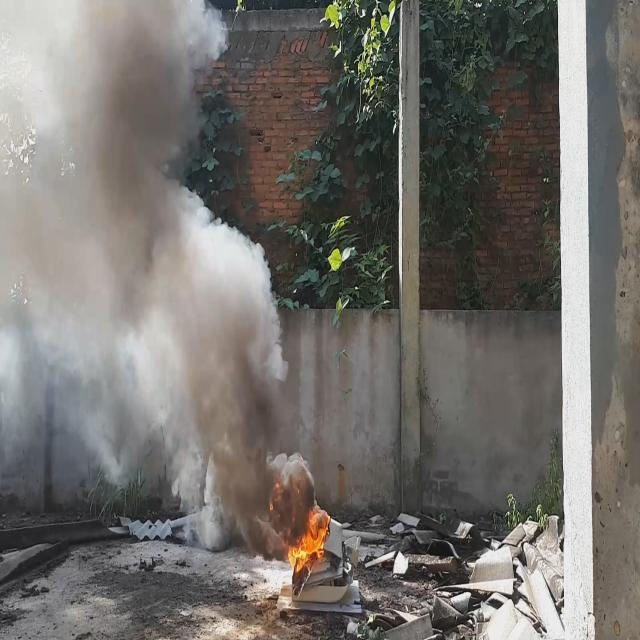Fire: (285, 504, 331, 576)
Smoke: (0, 0, 317, 564)
